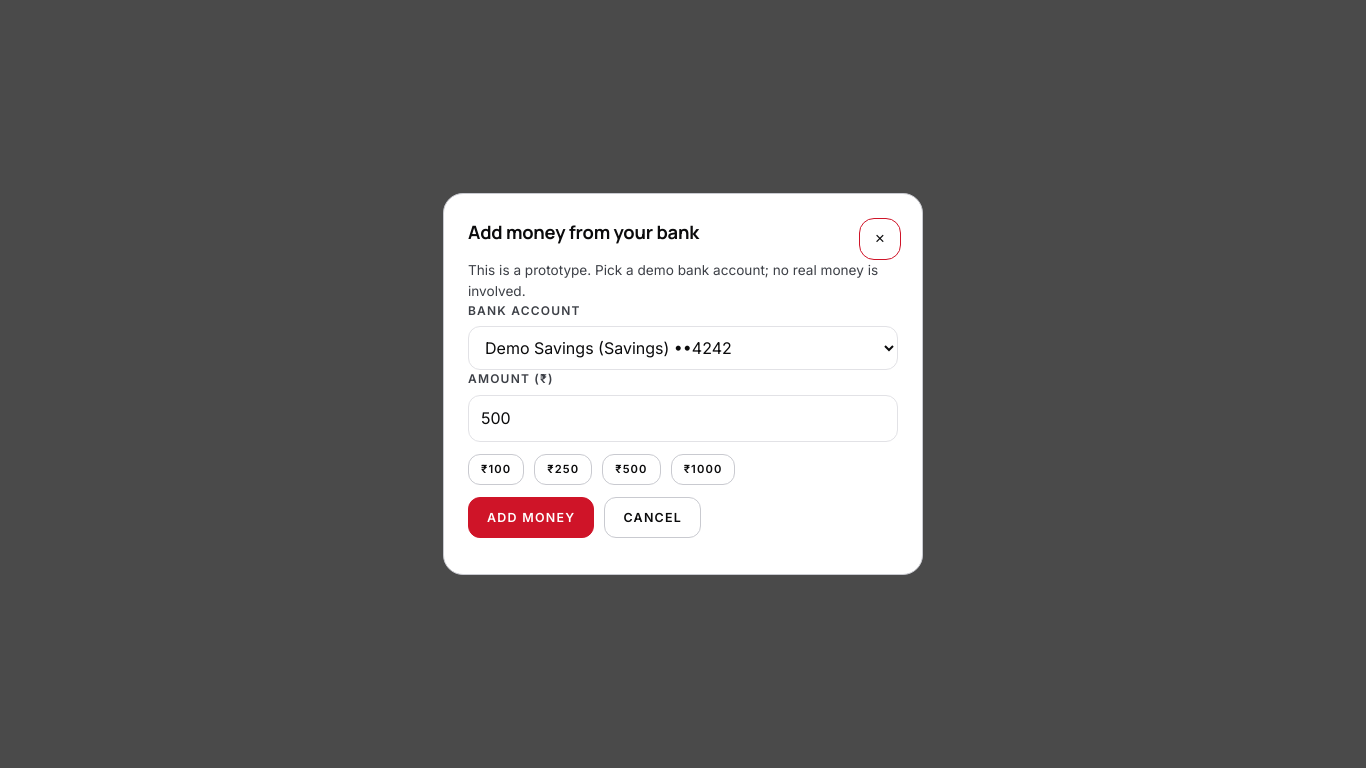
Test: bank top-up dialog › shows the bank decline message
This screenshot has width=1366, height=768.
Select "Always Declines (Current) ••0002" in the dropdown with test id "bank-account" at (683, 348), box left=468, top=326, right=898, bottom=370
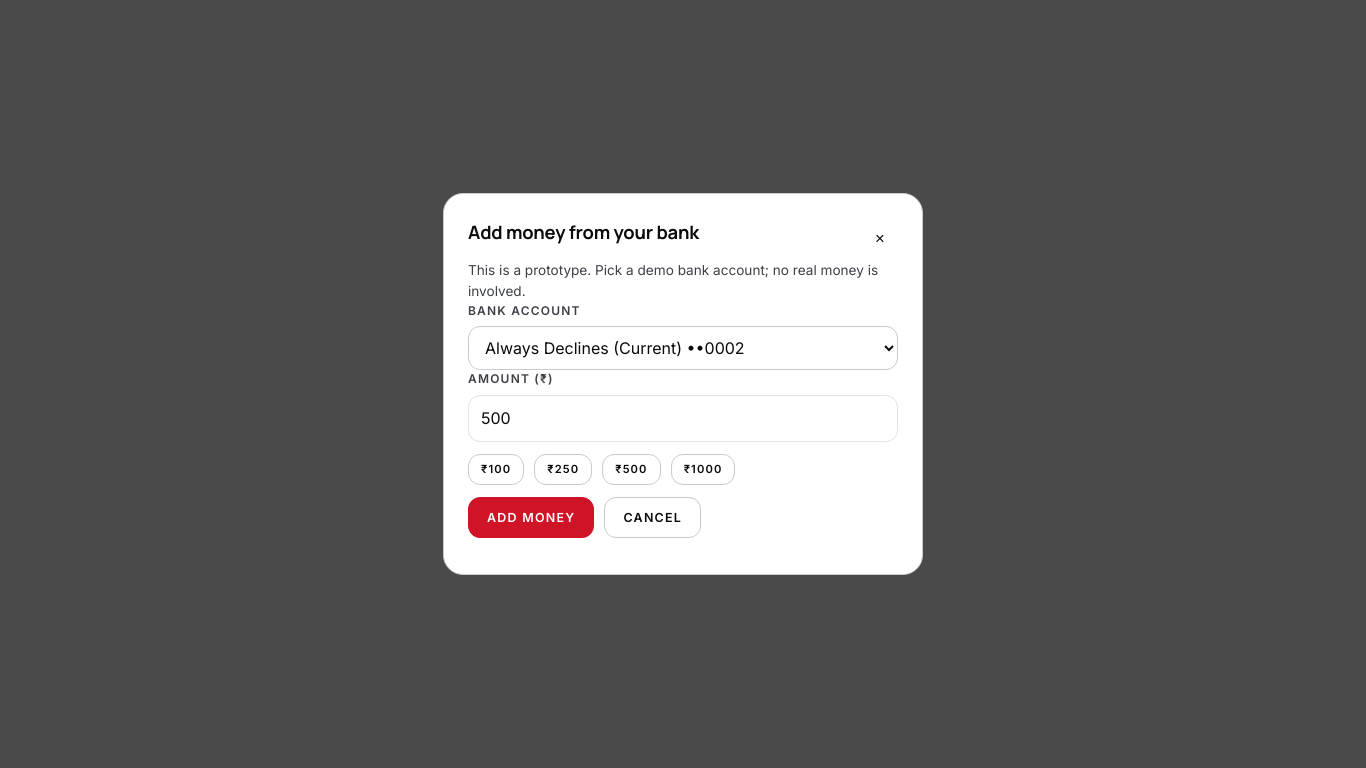
Click the button with test id "bank-submit" at (531, 518), box left=468, top=497, right=594, bottom=538
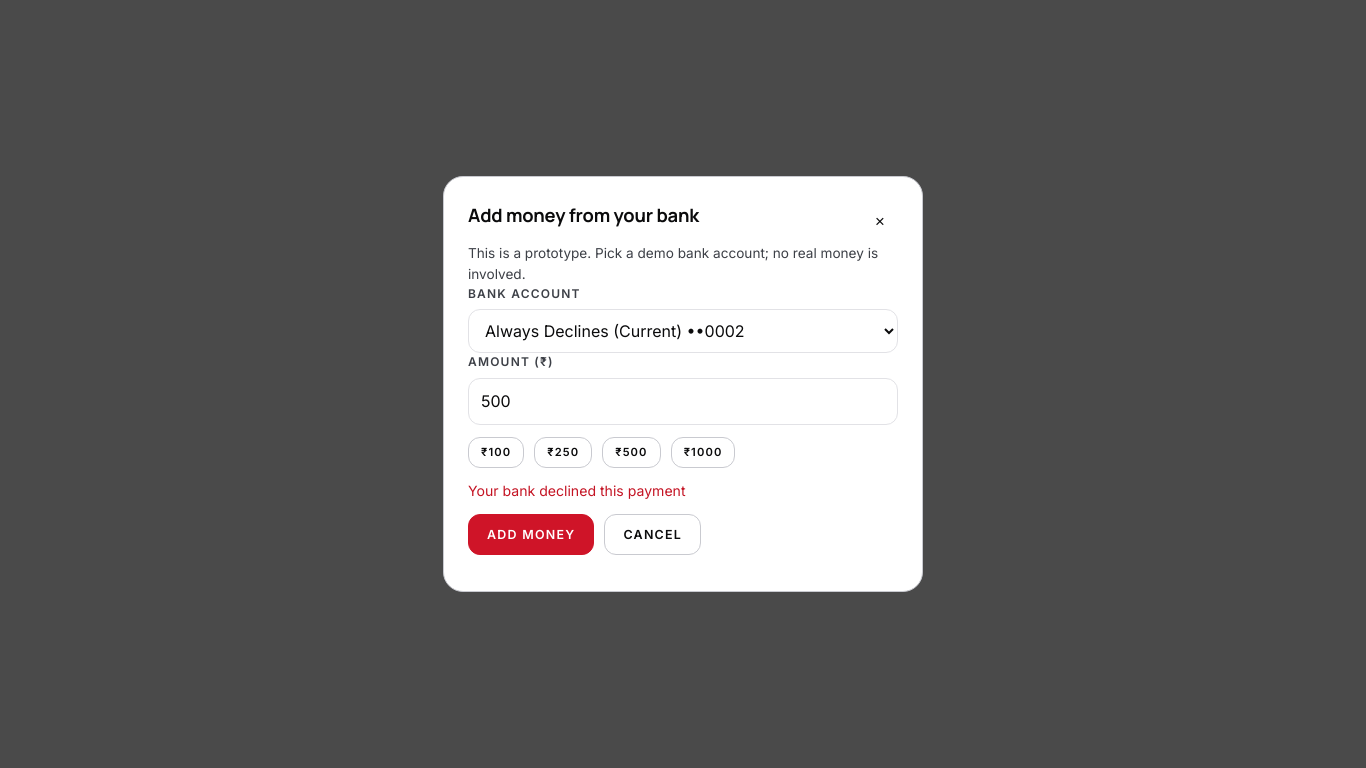
Expected: the message with test id "bank-error" shows "declined", left=468, top=482, right=686, bottom=499
